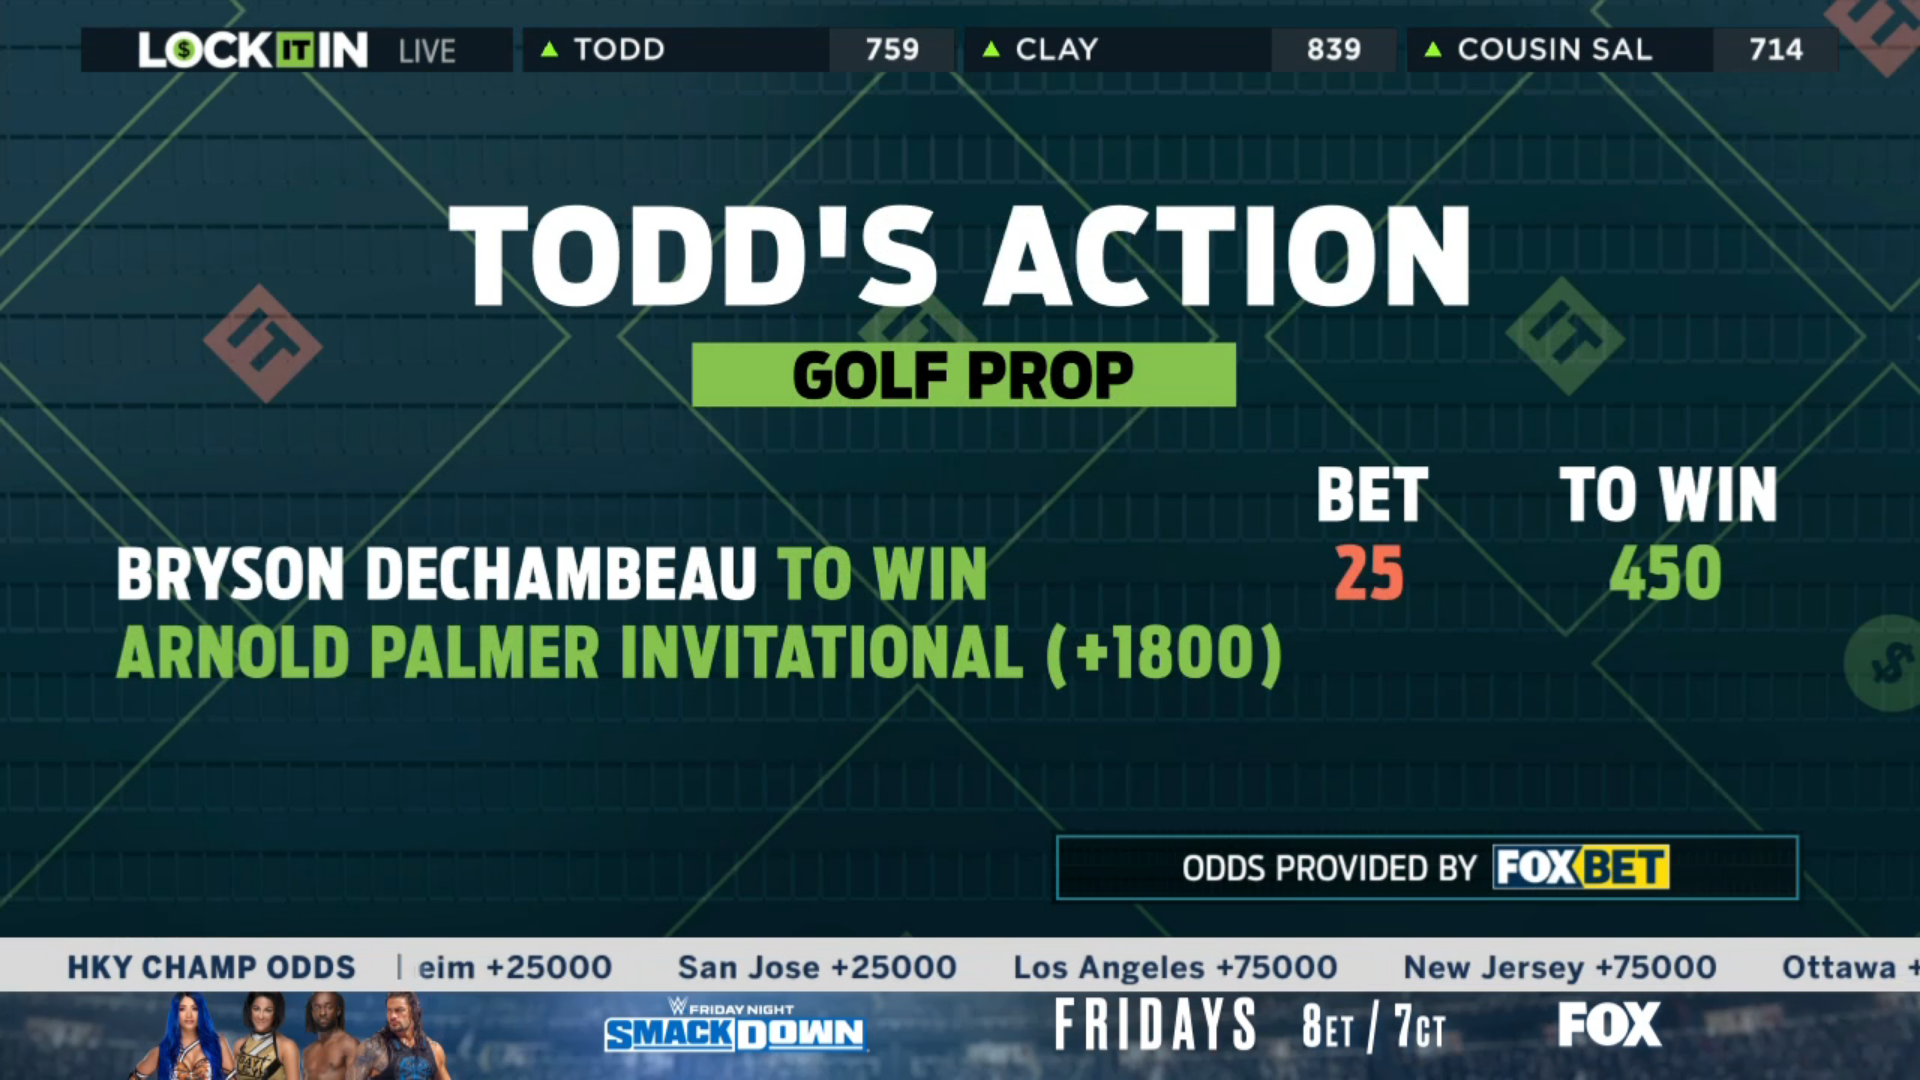Bet: (107, 531, 1298, 699)
Bet Amount: (1307, 451, 1440, 615)
Subtitle: (684, 334, 1247, 415)
Title: (435, 193, 1484, 319)
To Win: (1545, 448, 1793, 613)
Top Bar: (73, 17, 1849, 79)
